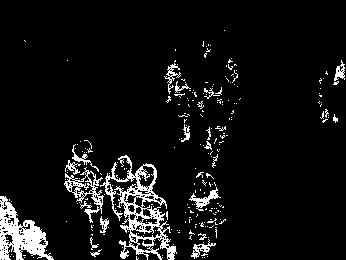person: (61, 138, 110, 258), (120, 162, 177, 260), (183, 171, 226, 260), (104, 153, 136, 254), (198, 78, 233, 168), (164, 62, 195, 143)
